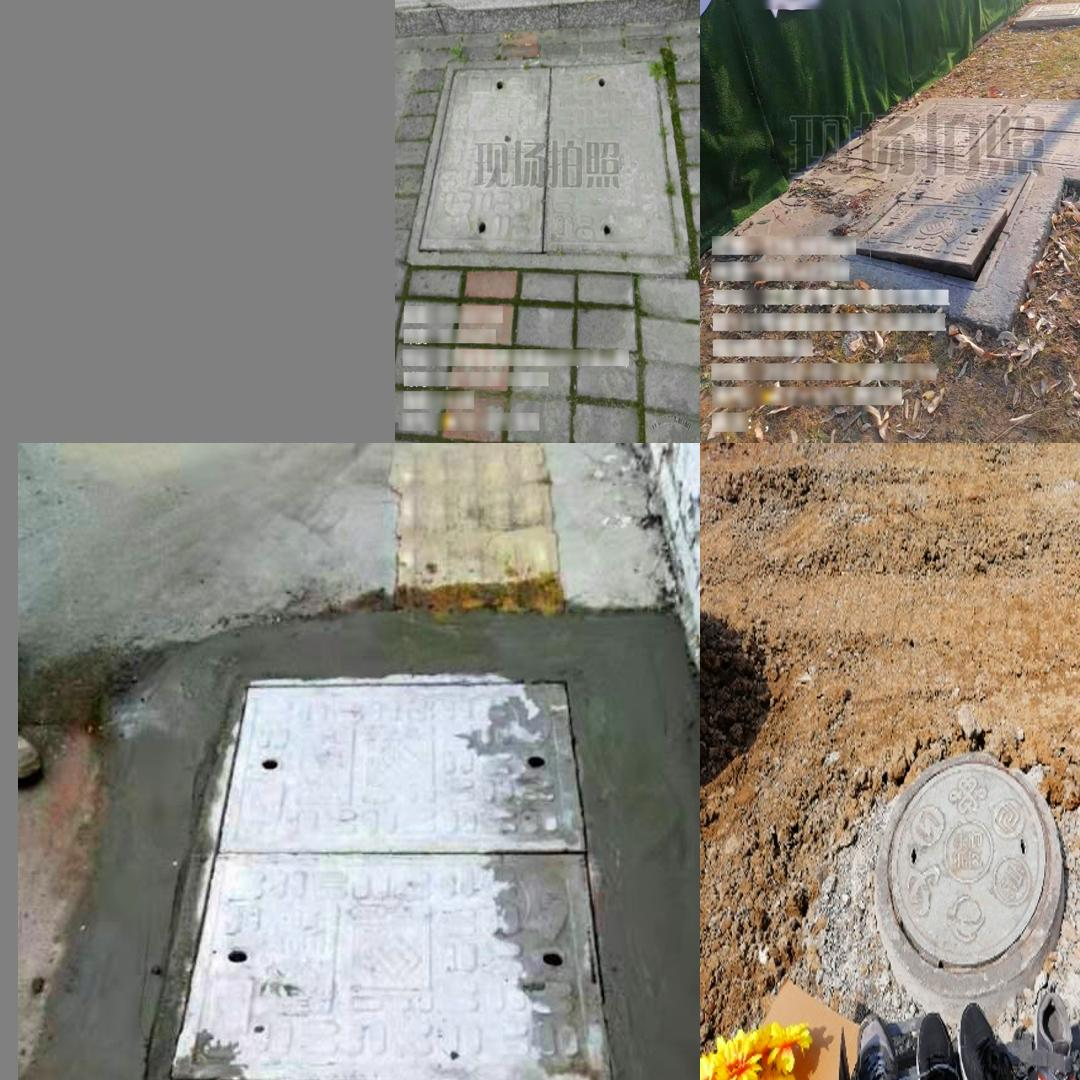good: (144, 673, 622, 1080), (408, 58, 680, 263), (875, 749, 1065, 992), (878, 100, 1009, 157), (982, 100, 1080, 167), (1027, 2, 1080, 17)
uncovered: (840, 164, 1038, 292)
